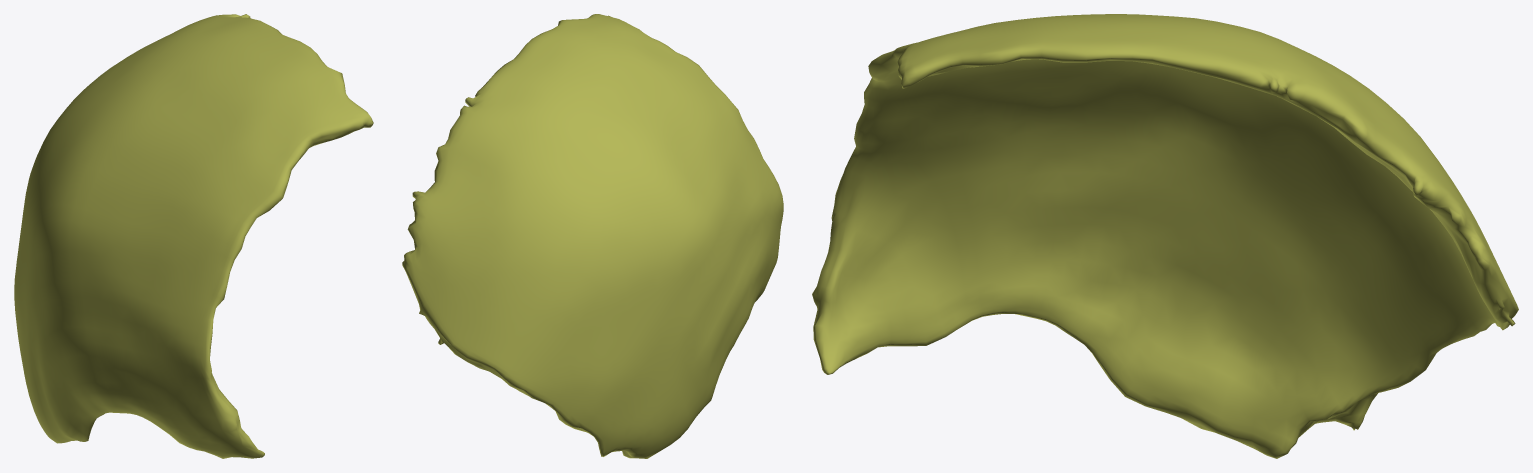
File: Parietal_Derecho.glb
3 views of the same model, side by side, from view 1: azimuth 30°, elevation 25°; view 2: azimuth 150°, elevation 25°; view 3: azimuth 270°, elevation 25° (orthographic). The views are drawn at different scales.
Parts seen in each view (by area): view 1: Parietal Derecho; view 2: Parietal Derecho; view 3: Parietal Derecho.
Boxes of the visible parts, left/top/right/bottom form: Parietal Derecho: left=14, top=14, right=373, bottom=458; Parietal Derecho: left=402, top=14, right=783, bottom=458; Parietal Derecho: left=812, top=14, right=1518, bottom=458.
Size of the model in its own units: 0.0788 by 0.1148 by 0.1386.
